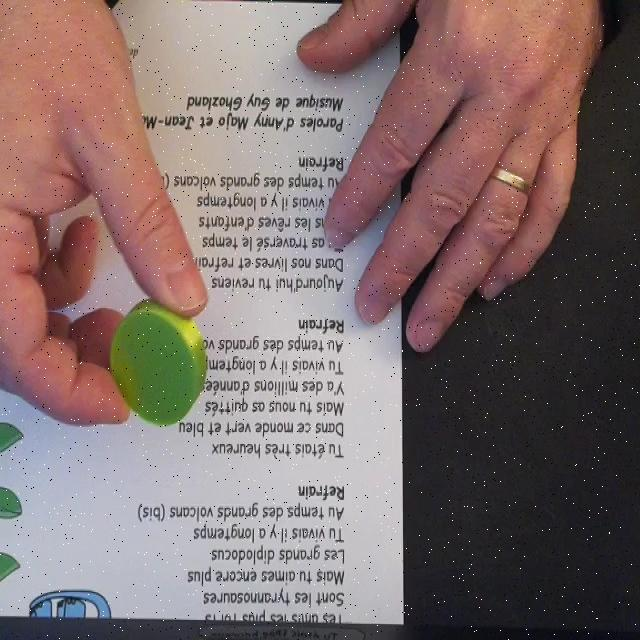round: (109, 300, 207, 427)
